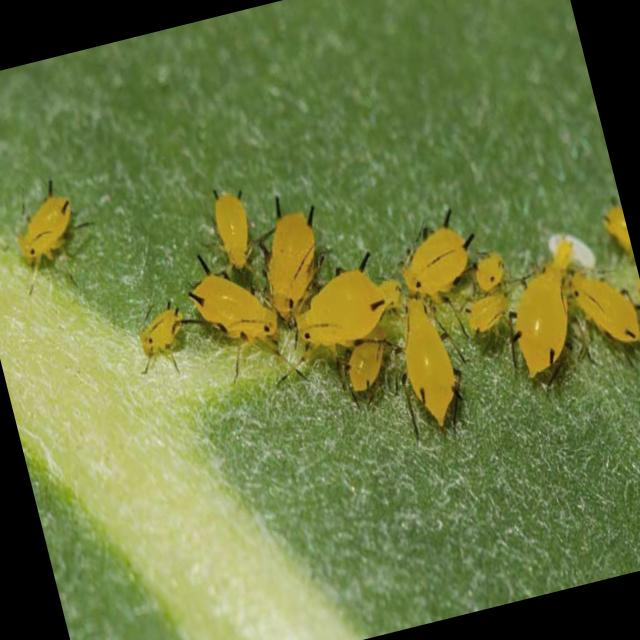Aphid: (181, 241, 299, 403), (481, 234, 591, 406), (376, 285, 480, 447), (270, 249, 410, 369), (0, 176, 103, 306), (245, 188, 334, 323), (383, 203, 484, 314), (556, 249, 640, 367), (126, 296, 198, 380), (201, 182, 261, 270), (454, 279, 522, 345), (469, 245, 514, 291)
